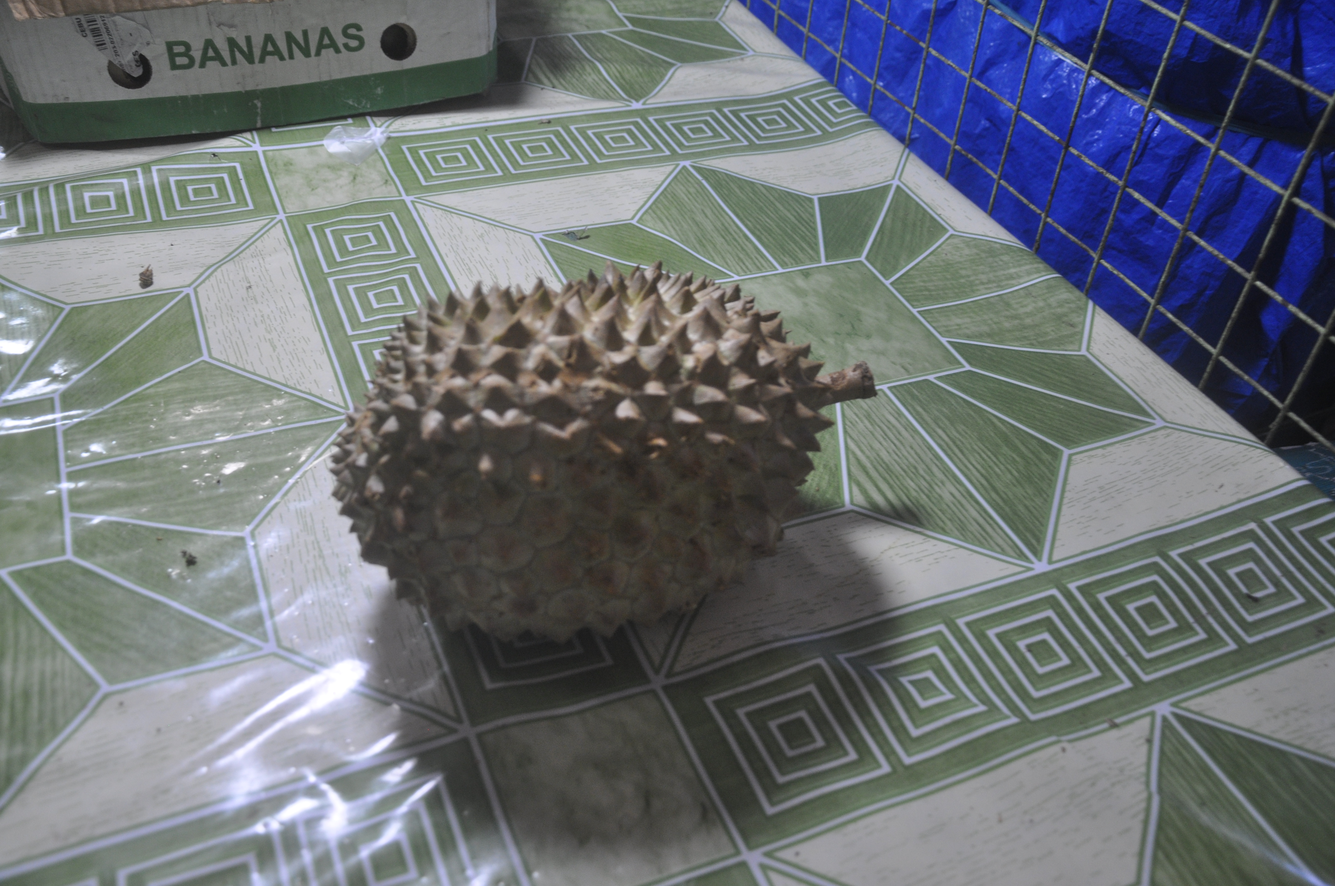mature: (333, 263, 875, 641)
